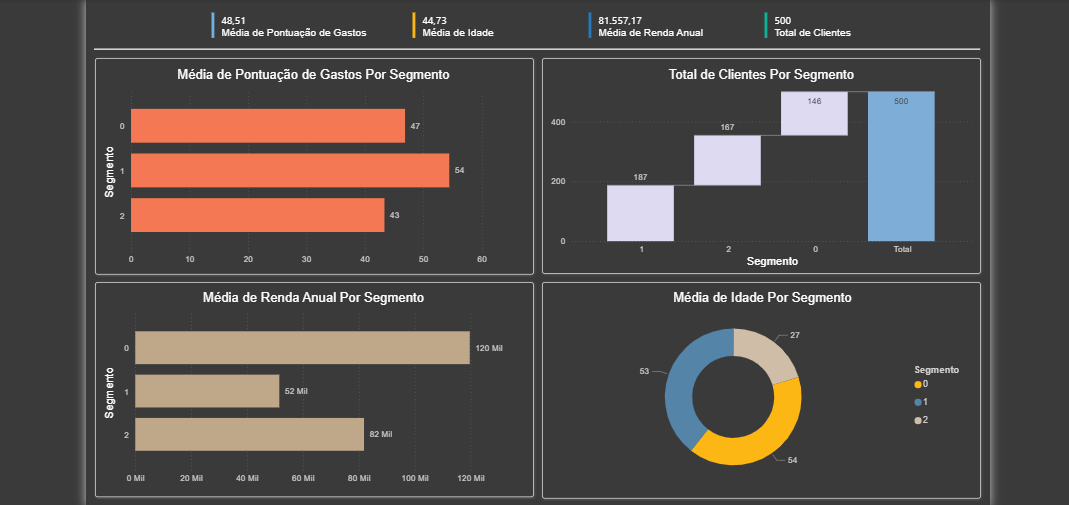

The dashboard page shown, as its layout file describes it:
{"tool":"powerbi","page":{"name":"Lab7-DSA","canvas":[1280,720],"ordinal":1},"visuals":[{"type":"shape","box":[12,58,1256,26],"z":0},{"type":"shape","box":[12.3,83.5,621.5,306.7],"z":1000},{"type":"shape","box":[646,84,622,306],"z":2000},{"type":"shape","box":[12.3,401.1,621.5,305.3],"z":3000},{"type":"shape","box":[646.2,401.1,621.5,306.7],"z":4000},{"type":"clusteredBarChart","title":"Média de Renda Anual Por Segmento","fields":{"Category":["Table.cluster"],"Y":["Avg(Table.renda_anual)"]},"box":[20.5,412.1,605.1,282],"z":5000},{"type":"donutChart","title":"Média de Idade Por Segmento","fields":{"Category":["Table.cluster"],"Y":["Clientes.Média de Idade"]},"box":[655.7,412.1,605.1,282],"z":6000},{"type":"clusteredBarChart","title":"Média de Pontuação de Gastos Por Segmento","fields":{"Category":["Table.cluster"],"Y":["Avg(Table.pontuacao_gastos)"]},"box":[20.5,95.8,605.1,288.9],"z":7000},{"type":"multiRowCard","fields":{"Values":["CountNonNull(Table.id)"]},"box":[956.7,14.2,199.8,51],"z":8000},{"type":"multiRowCard","fields":{"Values":["Avg(Table.renda_anual)"]},"box":[707.2,14.2,199.8,51],"z":9000},{"type":"multiRowCard","fields":{"Values":["Avg(Table.idade)"]},"box":[457.8,14.2,198.4,48.2],"z":10000},{"type":"multiRowCard","fields":{"Values":["Avg(Table.pontuacao_gastos)"]},"box":[172.9,14.2,231,48.2],"z":11000},{"type":"waterfallChart","title":"Total de Clientes Por Segmento","fields":{"Category":["Clientes.cluster"],"Y":["CountNonNull(Clientes.id)"]},"box":[653,95.8,607.8,288.9],"z":14000}]}

Visuals, with their boxes in screenshot pixels (x1, y1, x2, y2):
shape: {"left": 87, "top": 28, "right": 985, "bottom": 46}
shape: {"left": 87, "top": 46, "right": 531, "bottom": 265}
shape: {"left": 540, "top": 46, "right": 985, "bottom": 265}
shape: {"left": 87, "top": 273, "right": 531, "bottom": 492}
shape: {"left": 540, "top": 273, "right": 985, "bottom": 493}
"Média de Renda Anual Por Segmento" clusteredBarChart: {"left": 93, "top": 281, "right": 526, "bottom": 483}
"Média de Idade Por Segmento" donutChart: {"left": 547, "top": 281, "right": 980, "bottom": 483}
"Média de Pontuação de Gastos Por Segmento" clusteredBarChart: {"left": 93, "top": 55, "right": 526, "bottom": 261}
multiRowCard - CountNonNull(Table.id): {"left": 762, "top": 0, "right": 905, "bottom": 33}
multiRowCard - Avg(Table.renda_anual): {"left": 584, "top": 0, "right": 727, "bottom": 33}
multiRowCard - Avg(Table.idade): {"left": 406, "top": 0, "right": 547, "bottom": 31}
multiRowCard - Avg(Table.pontuacao_gastos): {"left": 202, "top": 0, "right": 367, "bottom": 31}
"Total de Clientes Por Segmento" waterfallChart: {"left": 545, "top": 55, "right": 980, "bottom": 261}
